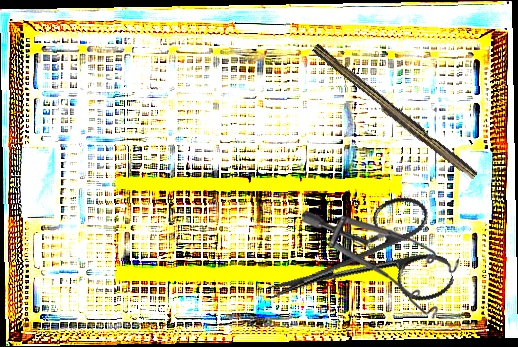Iris Scissors: (252, 188, 458, 347)
Scalpel Handle: (307, 43, 481, 183)
Speculum: (302, 210, 459, 320)
